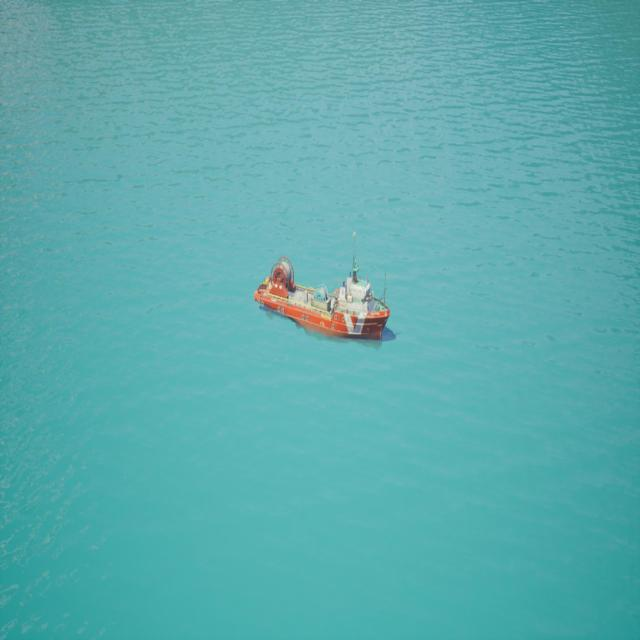tug boat: (256, 237, 394, 343)
